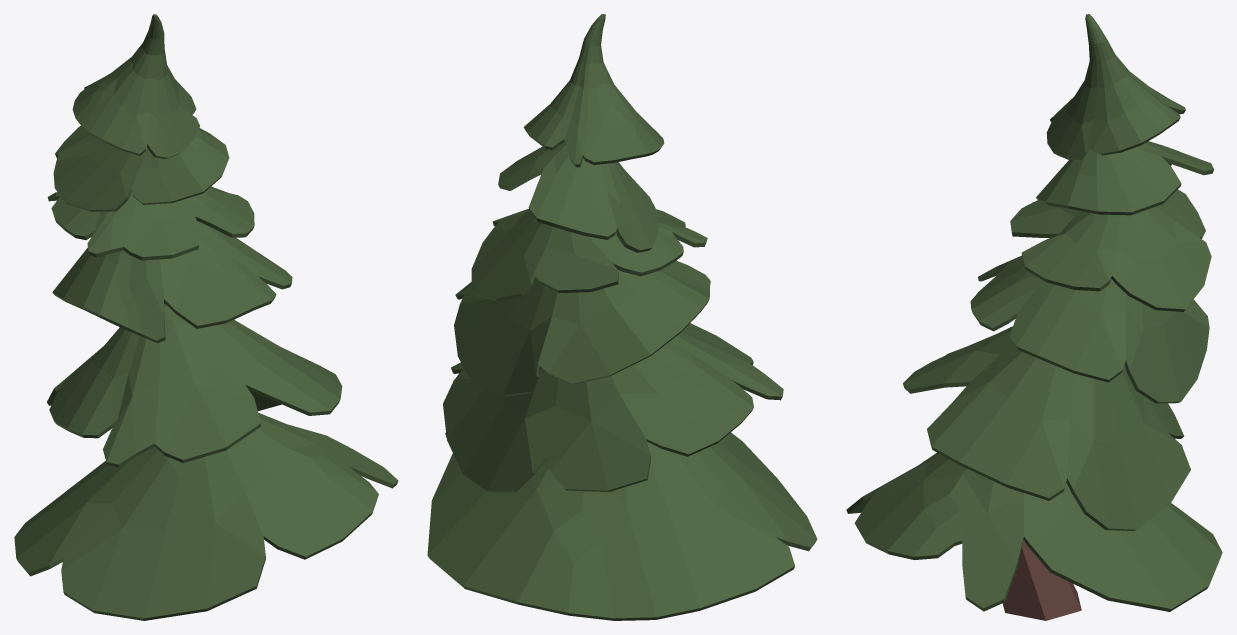
The picture shows the model from 3 angles, left to right: view 1: azimuth 30°, elevation 25°; view 2: azimuth 150°, elevation 25°; view 3: azimuth 270°, elevation 25°; orthographic projection. The views are drawn at different scales.
Visible parts, largest first — view 1: PineTree_3; view 2: PineTree_3; view 3: PineTree_3.
Part boxes in pixels (x1,y1,x2,y2): PineTree_3: [14, 14, 398, 620]; PineTree_3: [427, 14, 817, 620]; PineTree_3: [846, 14, 1222, 620].
Bounding box in the file's own units: 2.16 × 3.3 × 1.95.
